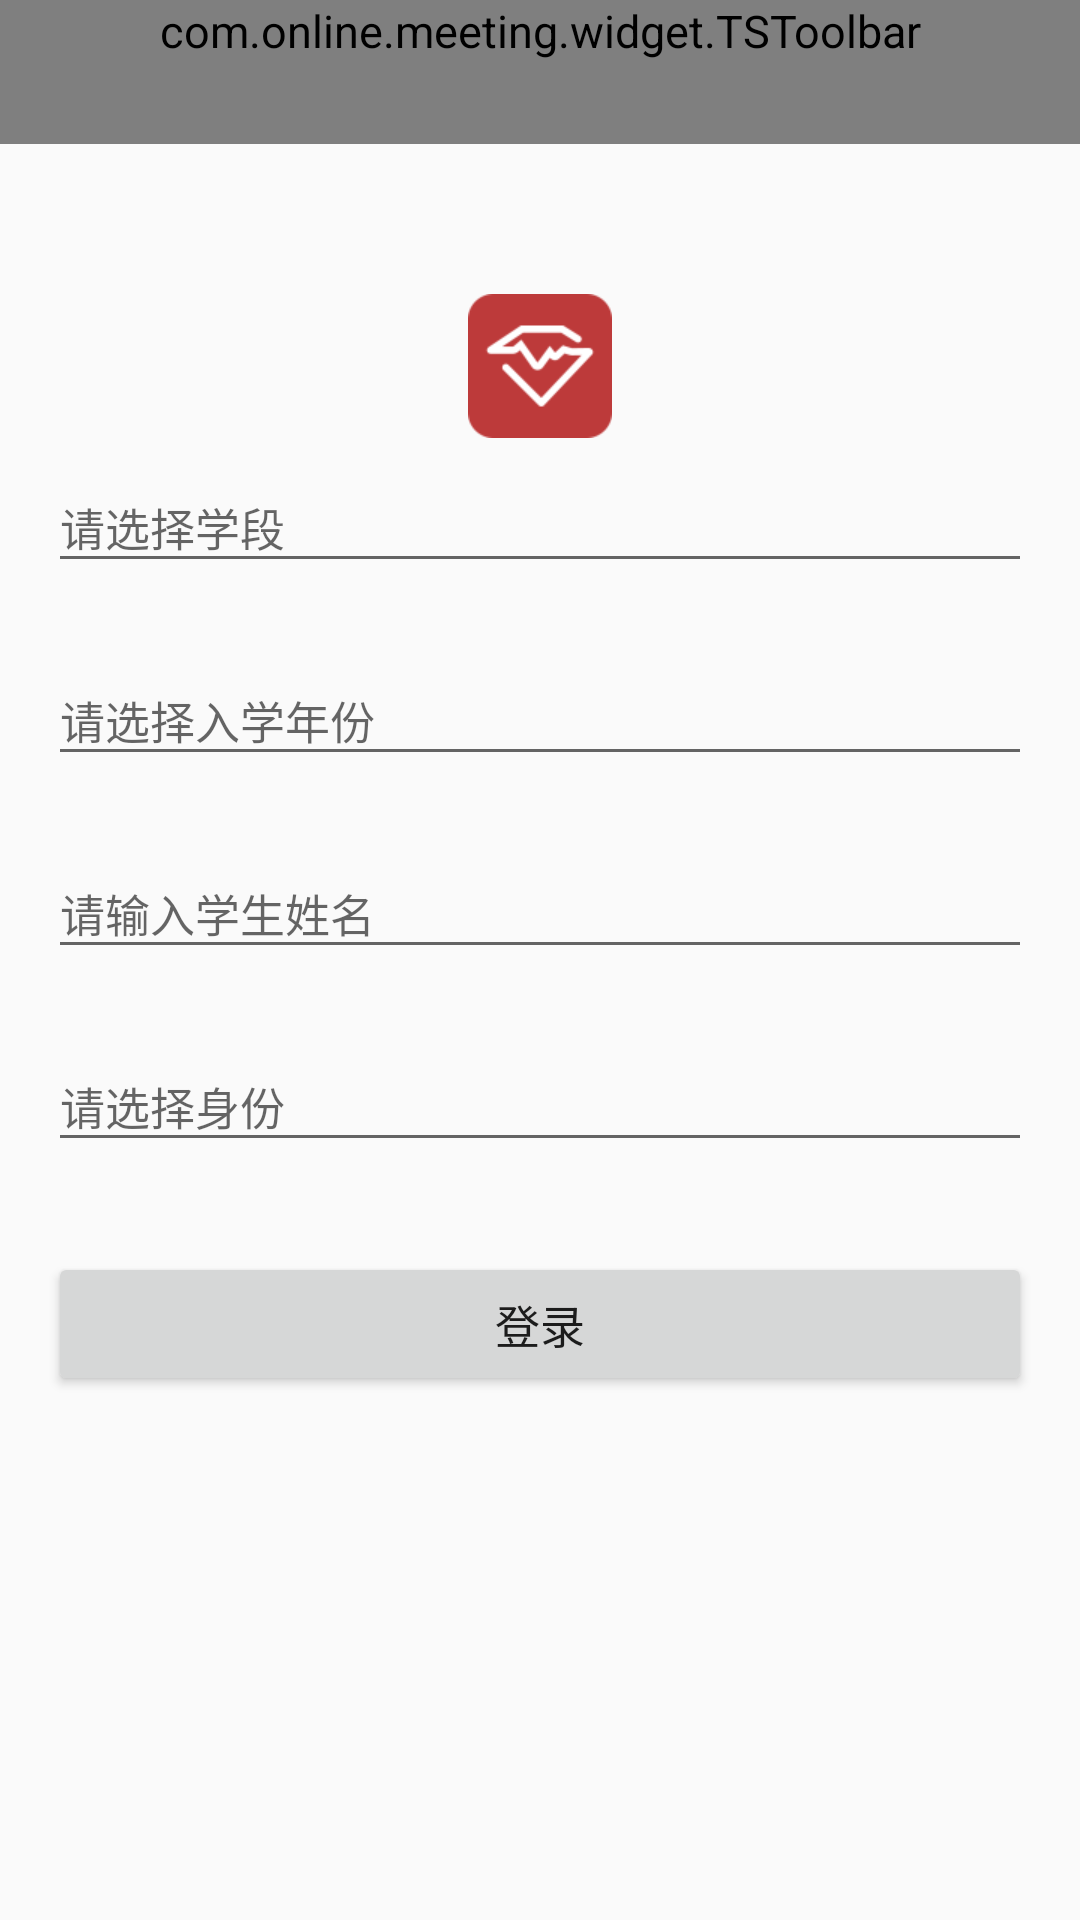

Icon bounding boxes for this 1080x1920 phone screenshot, format (x1, y1, x2, y2):
register head: (468, 294, 612, 438)
